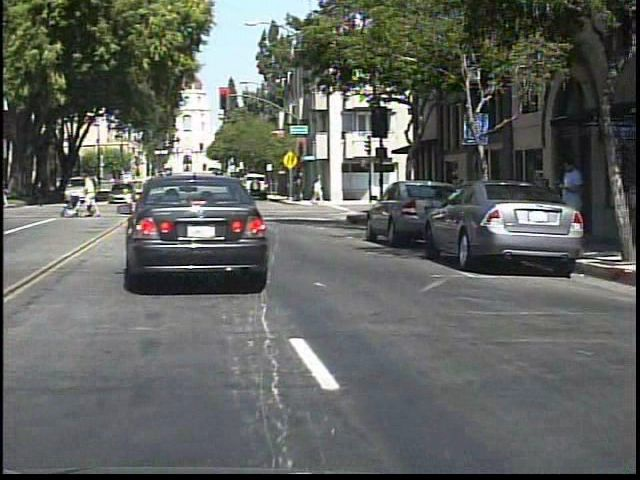person: (560, 151, 590, 256), (88, 171, 109, 219), (6, 174, 12, 209), (66, 174, 67, 206)
